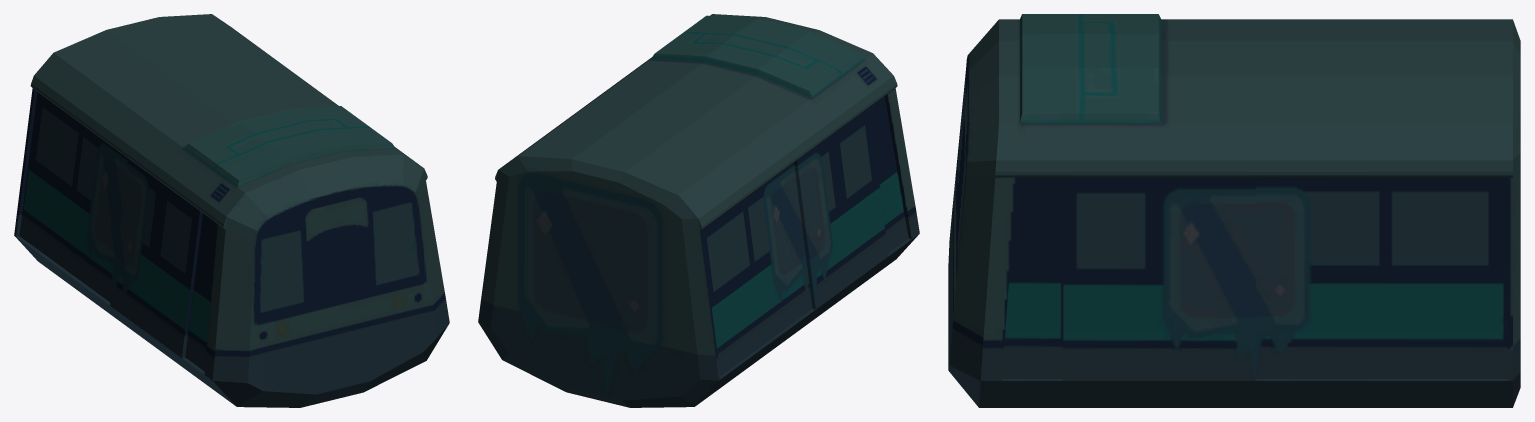
File: MovingPlatformMRT_CyanFreeze_Unhovered.fbx
3 renders of one model, left to right at view 1: azimuth 30°, elevation 25°; view 2: azimuth 150°, elevation 25°; view 3: azimuth 270°, elevation 25°, orthographic. The views are drawn at different scales.
Visible parts, largest first — view 1: Cube.016; view 2: Cube.016; view 3: Cube.016.
Boxes of the visible parts, left/top/right/bottom form: Cube.016: left=14, top=14, right=449, bottom=407; Cube.016: left=478, top=14, right=919, bottom=407; Cube.016: left=948, top=14, right=1520, bottom=407.
Size of the model in its own units: 276 by 263 by 430.
